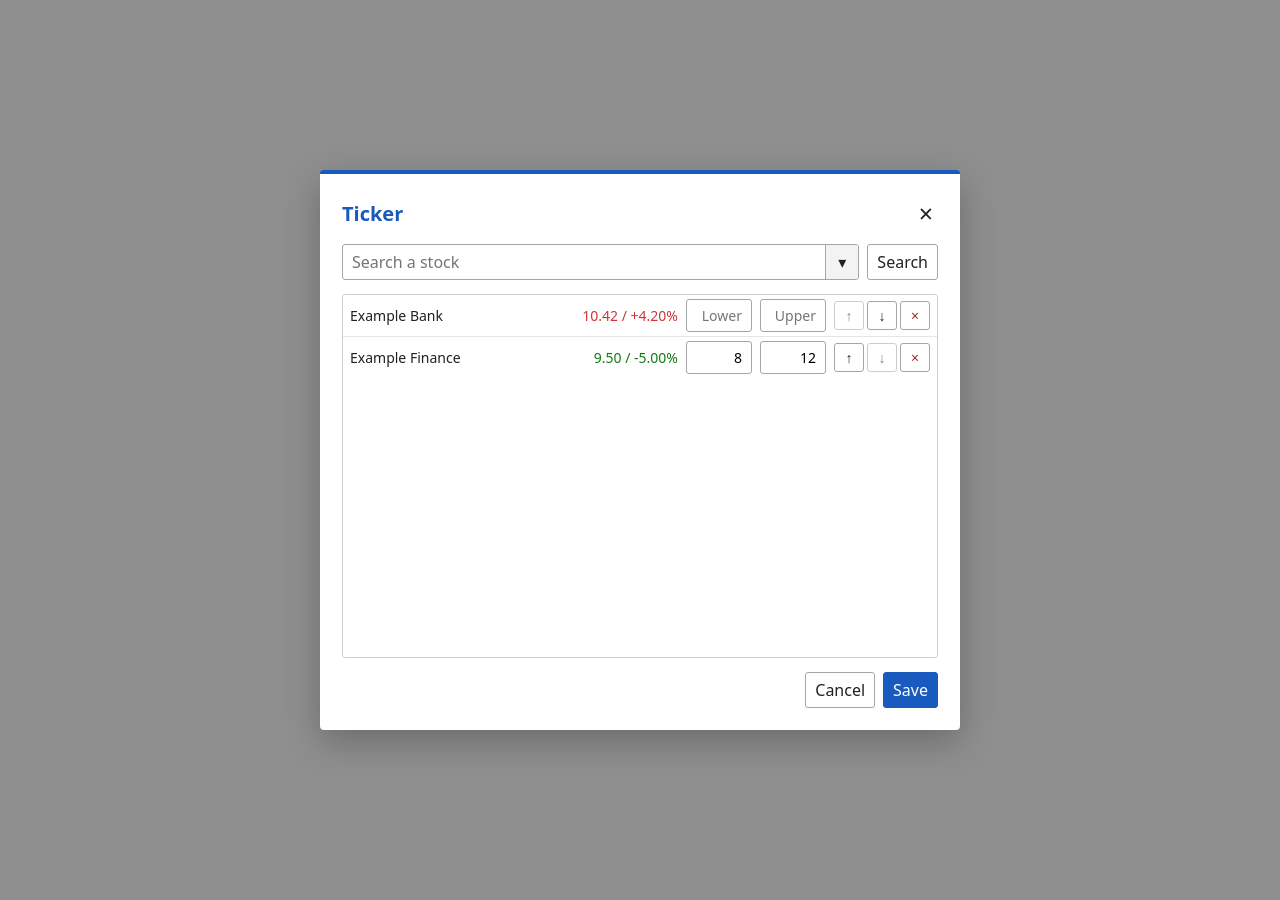
it: Ticker settings › searches on Enter and marks existing results as Added
The width and height of the screenshot is (1280, 900).
Expected: the text "Example Bank" is shown, [350, 306, 443, 325]
In the dropdown labelled "Search a stock": (601, 262) [342, 244, 859, 280], type "example"
Then press Enter
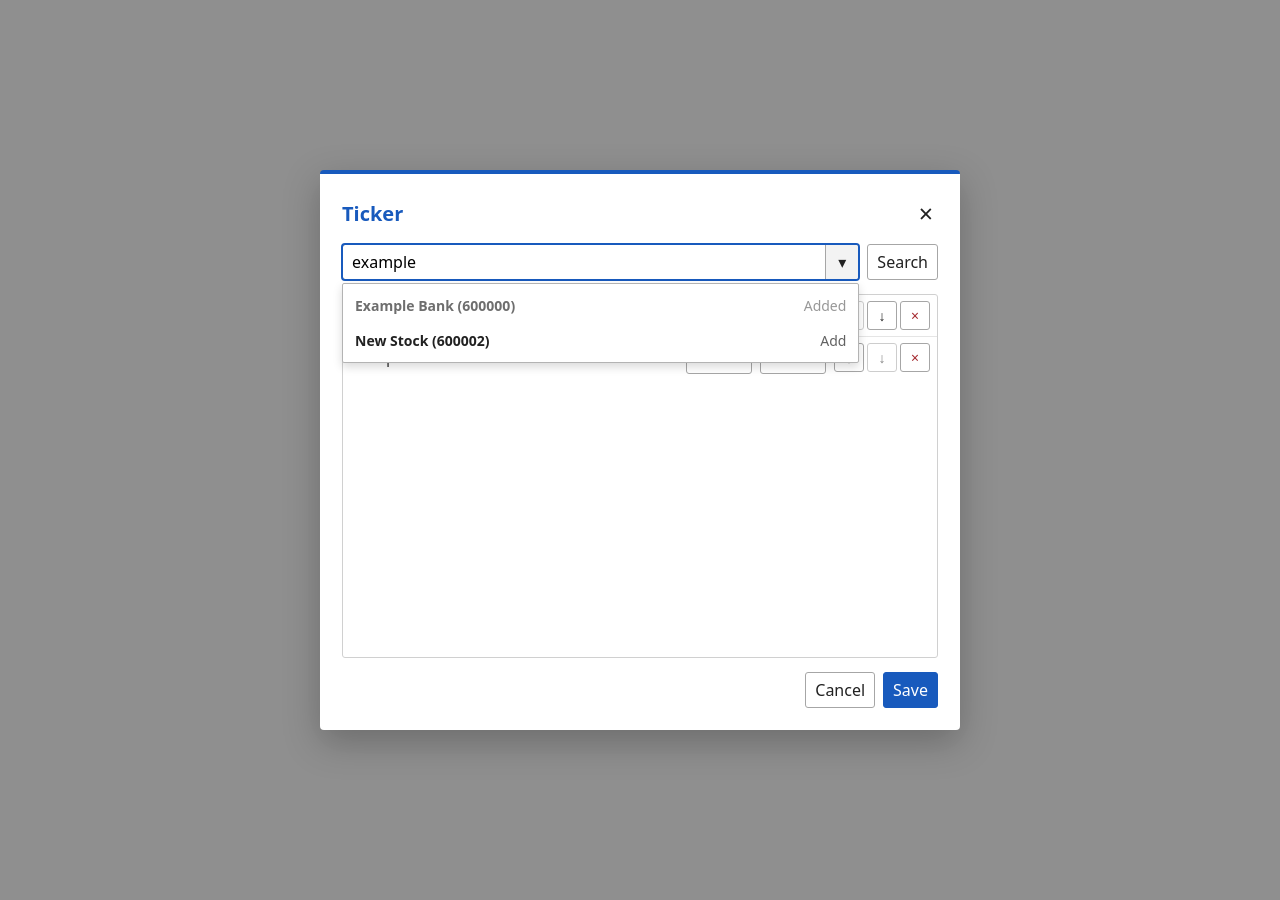
Now the button "Example Bank (600000) Added" is disabled, box [347, 288, 854, 323]
Now the button "New Stock (600002) Add" is enabled, box [347, 323, 854, 358]
